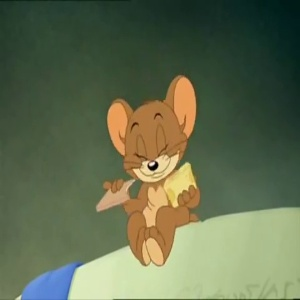Jerry: (94, 72, 201, 181)
